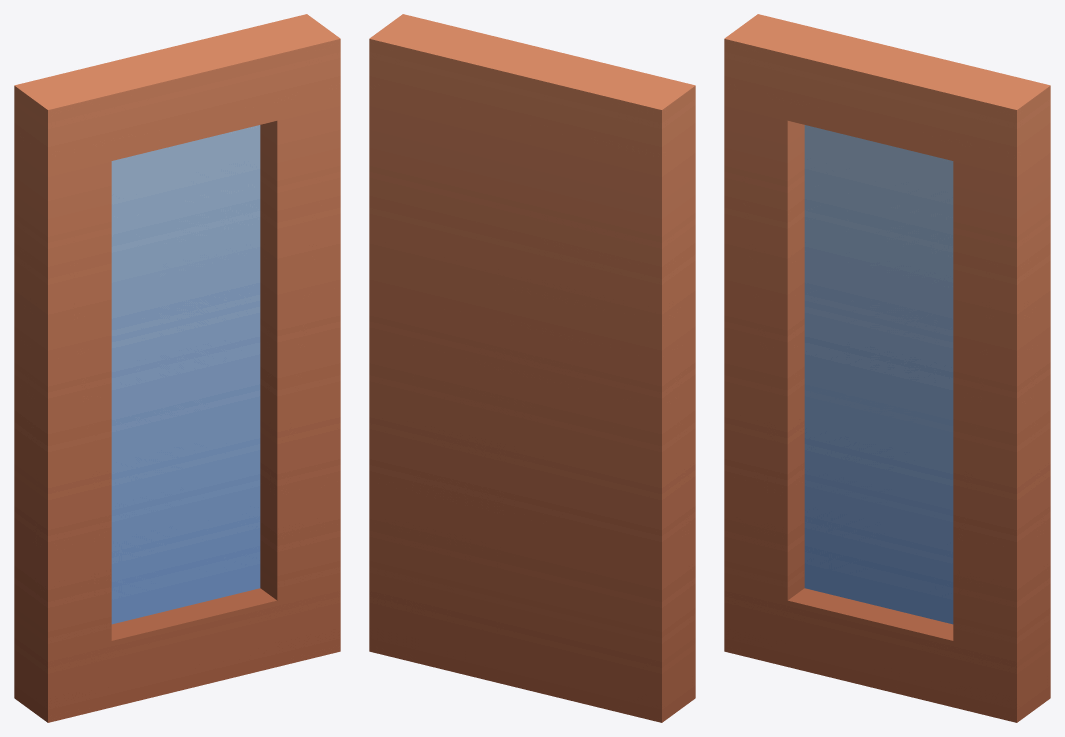
The model's file is door_brown_glass.glb.
3 renders of one model, left to right at view 1: azimuth 30°, elevation 25°; view 2: azimuth 150°, elevation 25°; view 3: azimuth 330°, elevation 25°, orthographic.
Visible parts, largest first — view 1: door-brown-glass; view 2: door-brown-glass; view 3: door-brown-glass.
Boxes of the visible parts, x1,y1,x2,y2 form: door-brown-glass: [14, 14, 340, 722]; door-brown-glass: [369, 14, 695, 722]; door-brown-glass: [724, 14, 1050, 722].
Bounding box in the file's own units: 0.25 × 0.5 × 0.05.
1 material, 1 textured.
